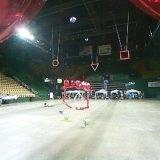Green_Balloon: (82, 117, 90, 126), (64, 114, 70, 121), (56, 78, 62, 84)
Orange_Circle_GShape: (52, 59, 59, 67)
Orange_Square_GShape: (119, 50, 130, 60)
Orange_Triangle_Gshape: (91, 62, 100, 72)
Purple_Balloon: (70, 17, 76, 23), (104, 80, 108, 84)
